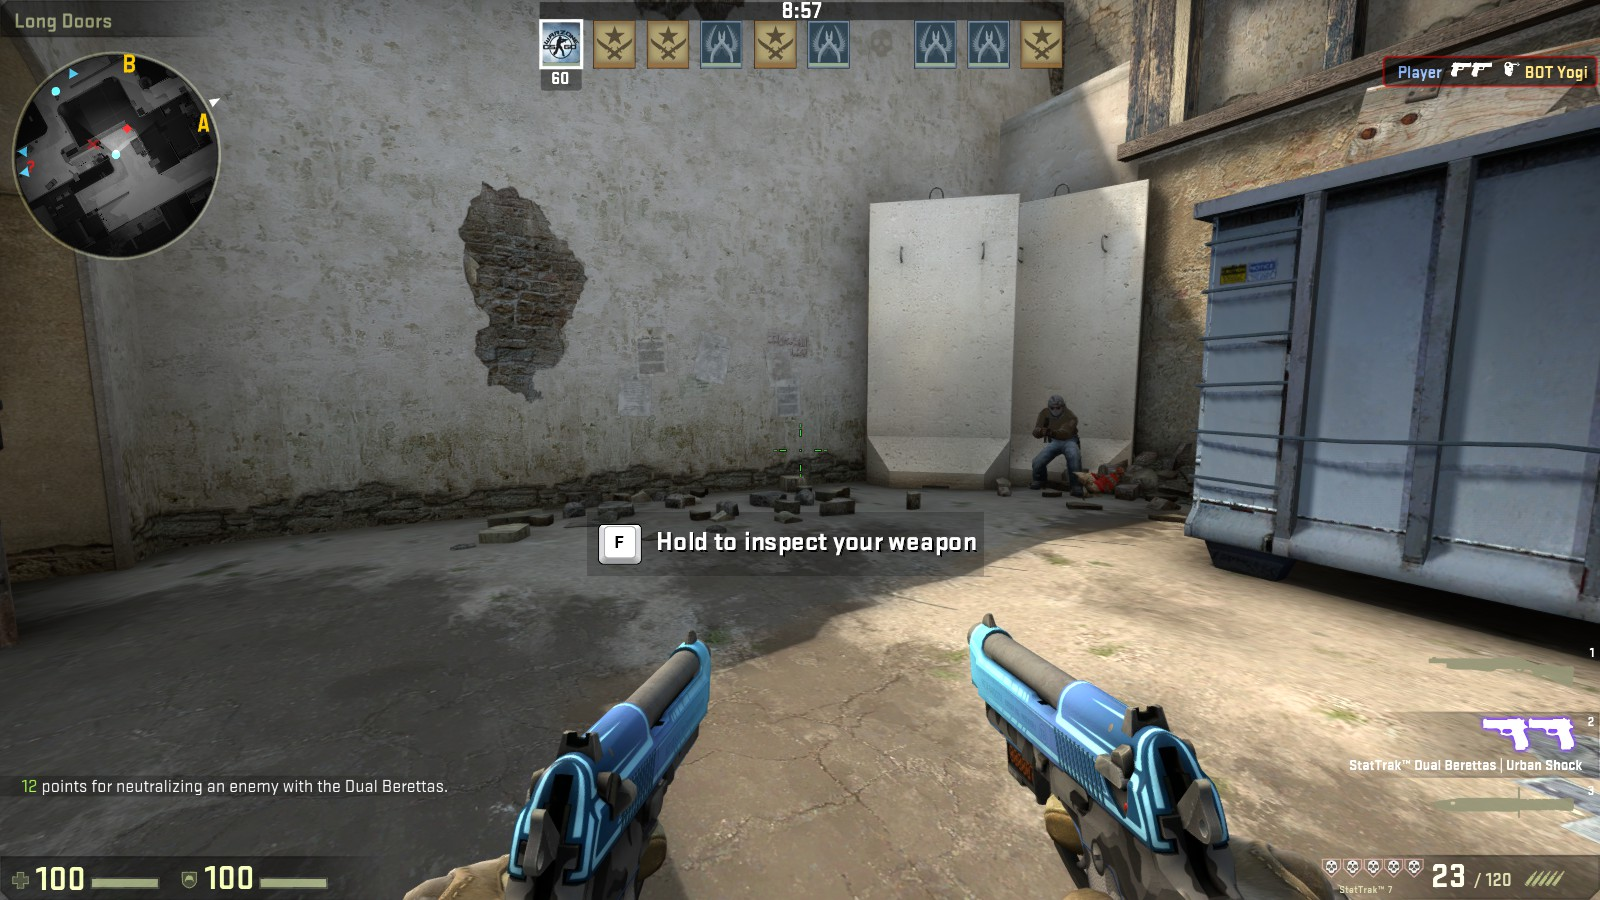t: (1033, 395, 1086, 493)
th: (1045, 396, 1066, 420)
